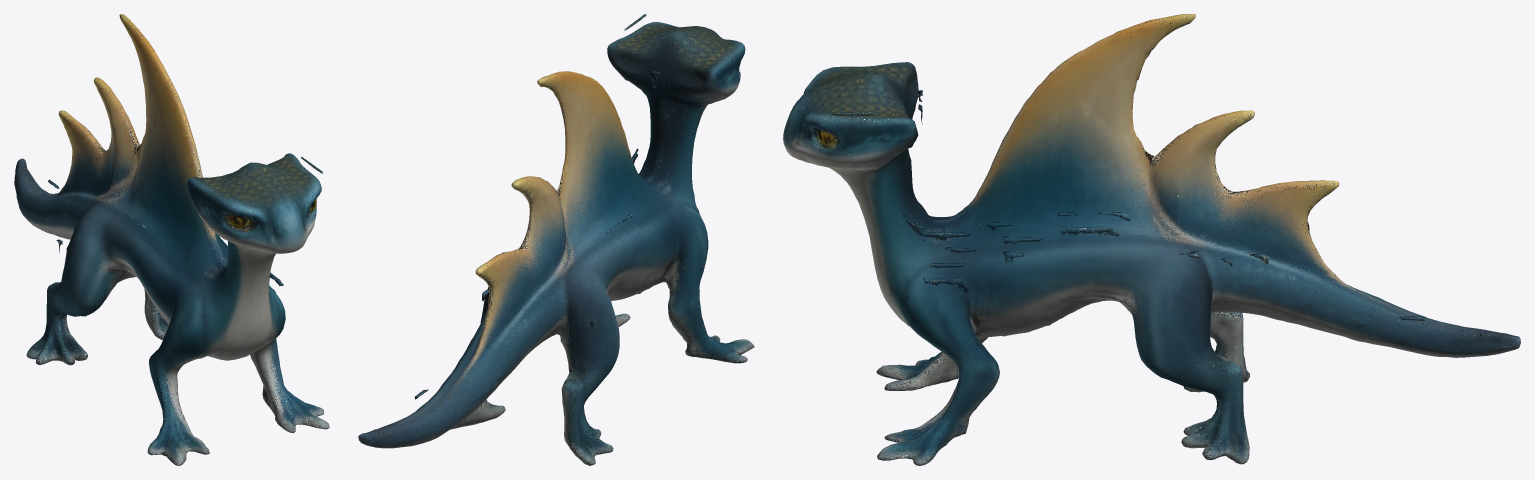
The model's file is qihuan-b.f3a99cfe93cd.glb.
The picture shows the model from 3 angles, left to right: view 1: azimuth 30°, elevation 25°; view 2: azimuth 150°, elevation 25°; view 3: azimuth 270°, elevation 25°; orthographic projection. The views are drawn at different scales.
Parts seen in each view (by area): view 1: QihuanExpressionReviewMesh; view 2: QihuanExpressionReviewMesh; view 3: QihuanExpressionReviewMesh.
Boxes of the visible parts, bbox=[...] form: QihuanExpressionReviewMesh: bbox=[14, 14, 329, 465]; QihuanExpressionReviewMesh: bbox=[358, 14, 754, 465]; QihuanExpressionReviewMesh: bbox=[783, 14, 1520, 465].
Bounding box in the file's own units: 0.3262 × 0.6106 × 0.9993.
Materials: 1 (1 with a texture image).
